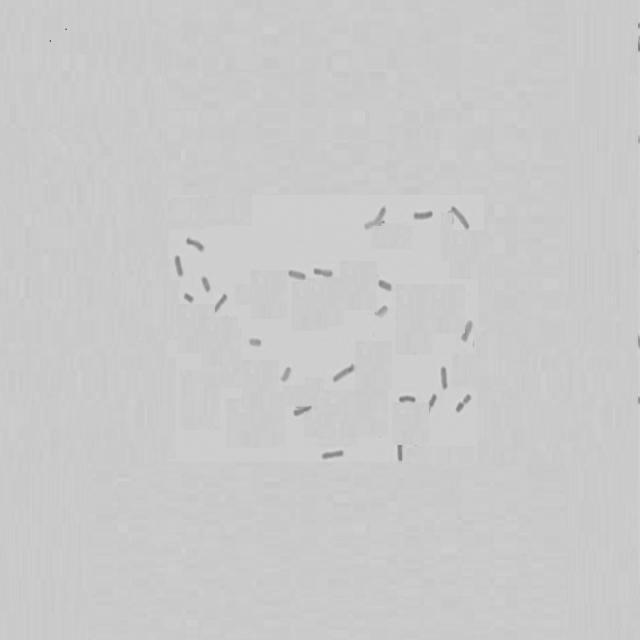E-coli: (451, 198, 472, 233), (363, 204, 387, 234), (329, 361, 357, 384), (410, 204, 437, 226), (458, 314, 476, 346), (322, 444, 349, 464), (185, 232, 206, 256), (310, 260, 334, 280), (287, 263, 307, 285), (292, 400, 313, 420), (376, 274, 396, 294), (398, 387, 418, 407), (211, 293, 231, 313), (373, 302, 391, 322), (439, 362, 451, 392), (277, 364, 293, 386), (171, 252, 183, 280), (181, 287, 196, 309), (246, 333, 264, 351), (395, 441, 409, 463), (454, 397, 465, 420), (199, 273, 211, 293), (465, 390, 476, 406), (427, 393, 437, 409)
